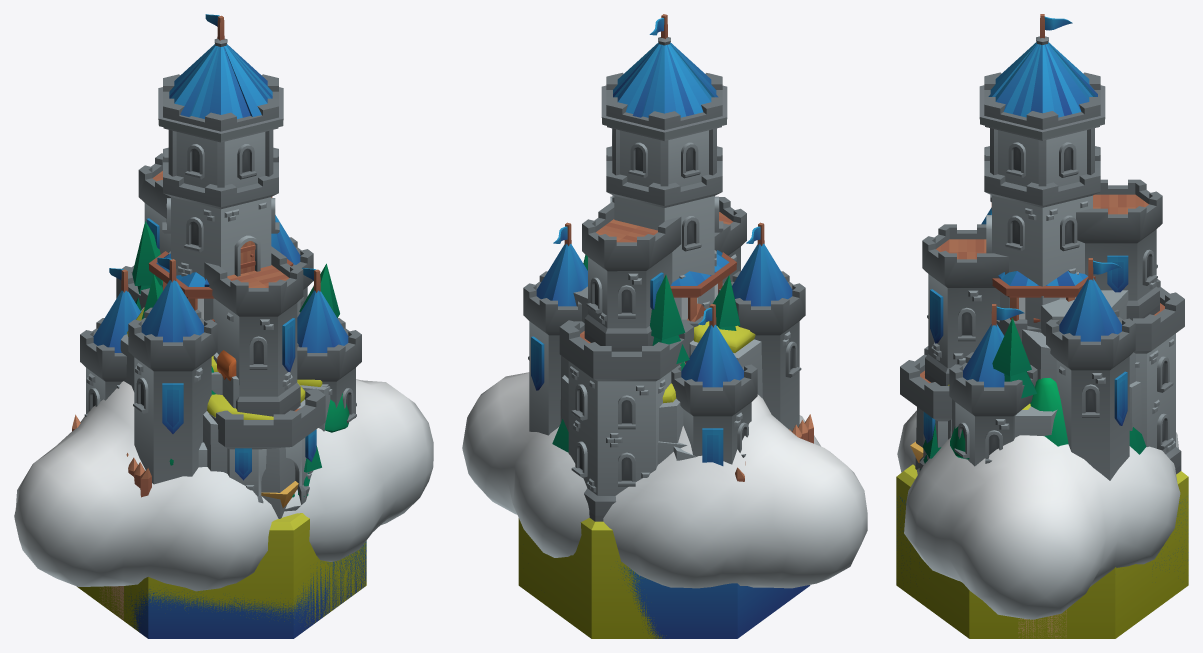
The model's file is world-kit.glb.
The picture shows the model from 3 angles, left to right: view 1: azimuth 30°, elevation 25°; view 2: azimuth 150°, elevation 25°; view 3: azimuth 270°, elevation 25°; orthographic projection.
Parts seen in each view (by area): view 1: building_castle_blue, cloud_big, hex_water, hex_road_A, hex_grass, mountain_C_grass, mountain_A_grass_trees, building_tower_A_top_blue, trees_B_large, fence_wood_straight; view 2: building_castle_blue, cloud_big, hex_grass, hex_road_A, hex_water, mountain_C_grass, mountain_A_grass_trees, building_tower_A_top_blue, mountain_B; view 3: building_castle_blue, cloud_big, hex_grass, hex_road_A, mountain_B, building_tower_A_top_blue, mountain_A_grass_trees, trees_B_medium, mountain_C_grass, trees_A_large.
Part boxes in pixels (x1=…): building_castle_blue: x1=80, y1=14, x2=361, y2=511; cloud_big: x1=14, y1=379, x2=433, y2=591; hex_water: x1=123, y1=541, x2=366, y2=638; hex_road_A: x1=78, y1=513, x2=366, y2=631; hex_grass: x1=77, y1=513, x2=366, y2=631; mountain_C_grass: x1=120, y1=307, x2=327, y2=518; mountain_A_grass_trees: x1=132, y1=221, x2=339, y2=430; building_tower_A_top_blue: x1=148, y1=251, x2=293, y2=321; trees_B_large: x1=169, y1=393, x2=349, y2=465; fence_wood_straight: x1=72, y1=414, x2=151, y2=497; building_castle_blue: x1=523, y1=14, x2=805, y2=521; cloud_big: x1=462, y1=372, x2=867, y2=588; hex_grass: x1=518, y1=518, x2=662, y2=638; hex_road_A: x1=518, y1=521, x2=664, y2=638; hex_water: x1=617, y1=561, x2=810, y2=638; mountain_C_grass: x1=562, y1=321, x2=762, y2=443; mountain_A_grass_trees: x1=560, y1=255, x2=740, y2=465; building_tower_A_top_blue: x1=670, y1=250, x2=736, y2=321; mountain_B: x1=560, y1=286, x2=687, y2=464; building_castle_blue: x1=900, y1=14, x2=1184, y2=480; cloud_big: x1=897, y1=410, x2=1180, y2=619; hex_grass: x1=896, y1=464, x2=1188, y2=638; hex_road_A: x1=896, y1=465, x2=1188, y2=638; mountain_B: x1=1015, y1=290, x2=1135, y2=437; building_tower_A_top_blue: x1=992, y1=271, x2=1095, y2=322; mountain_A_grass_trees: x1=952, y1=318, x2=1036, y2=422; trees_B_medium: x1=1030, y1=378, x2=1068, y2=446; mountain_C_grass: x1=915, y1=381, x2=1141, y2=469; trees_A_large: x1=919, y1=424, x2=1146, y2=469.
Size of the model in its own units: 3.61 by 4.98 by 2.31.
Materials: 1 (1 with a texture image).
